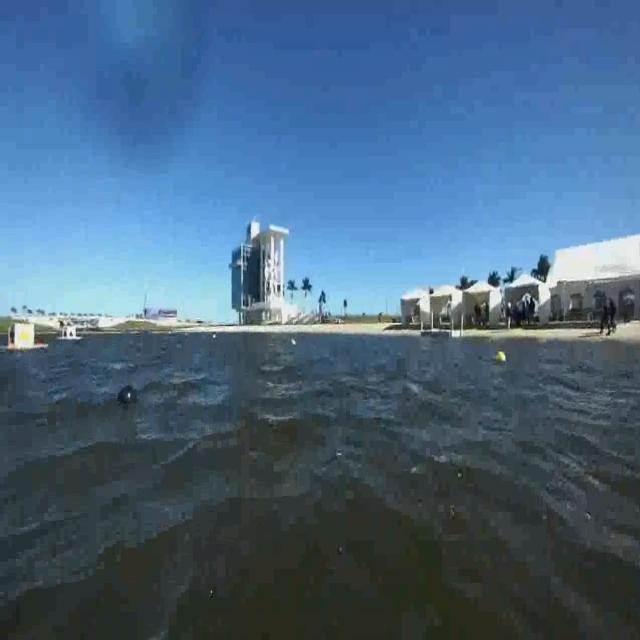black-buoy: (115, 382, 140, 413)
yellow-buoy: (494, 348, 508, 366)
